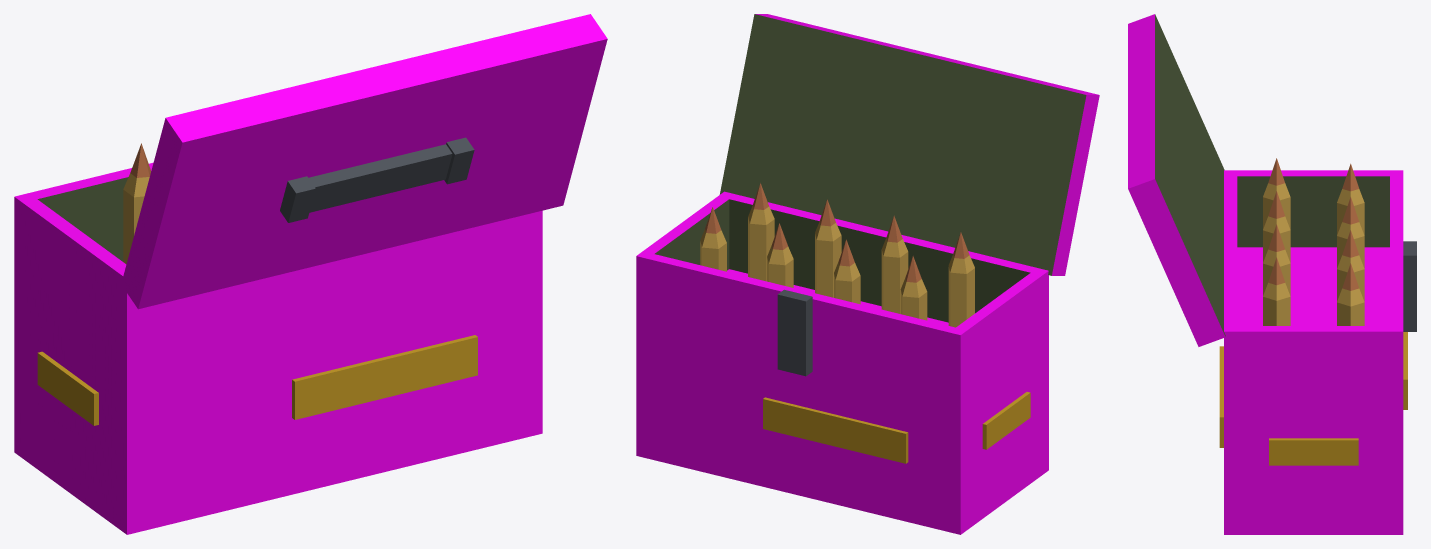
The model's file is pickup_ammo.glb.
3 views of the same model, side by side, from view 1: azimuth 30°, elevation 25°; view 2: azimuth 150°, elevation 25°; view 3: azimuth 270°, elevation 25° (orthographic). The views are drawn at different scales.
Visible parts, largest first — view 1: pickup_ammo__body; view 2: pickup_ammo__body; view 3: pickup_ammo__body.
Boxes of the visible parts, x1,y1,x2,y2 form: pickup_ammo__body: [14, 14, 607, 534]; pickup_ammo__body: [636, 14, 1099, 534]; pickup_ammo__body: [1128, 14, 1416, 534].
Size of the model in its own units: 0.348 by 0.3521 by 0.2575.
1 material, 1 textured.
